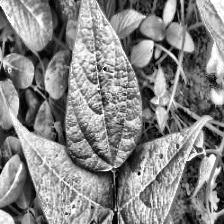ALS: (61, 0, 142, 171), (4, 110, 114, 224), (119, 117, 215, 224)
